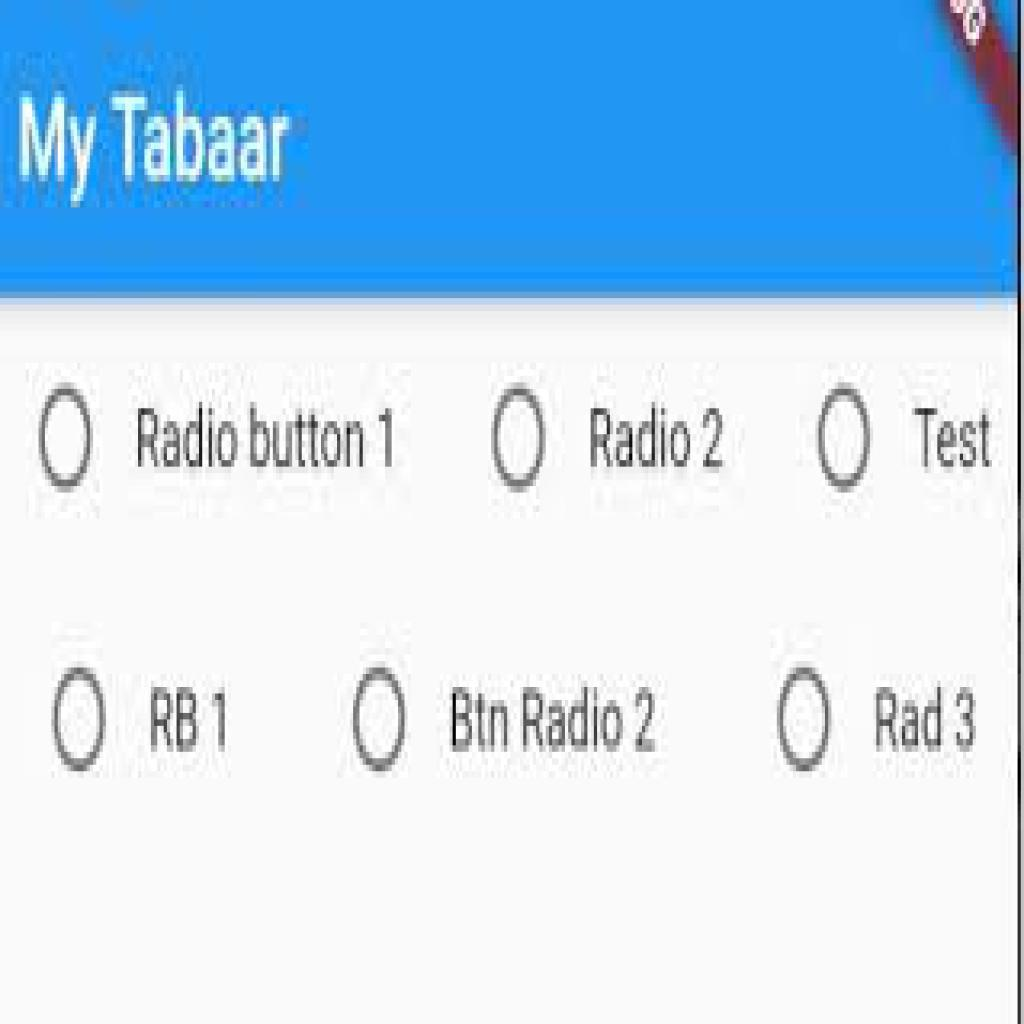radio: (802, 380, 882, 500), (772, 658, 837, 781), (36, 383, 100, 501), (491, 380, 556, 494), (52, 658, 112, 776), (350, 666, 410, 783)
